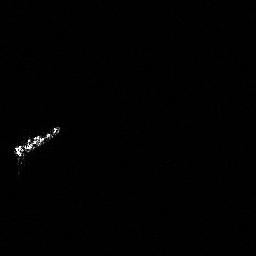ship: (13, 125, 62, 177)
